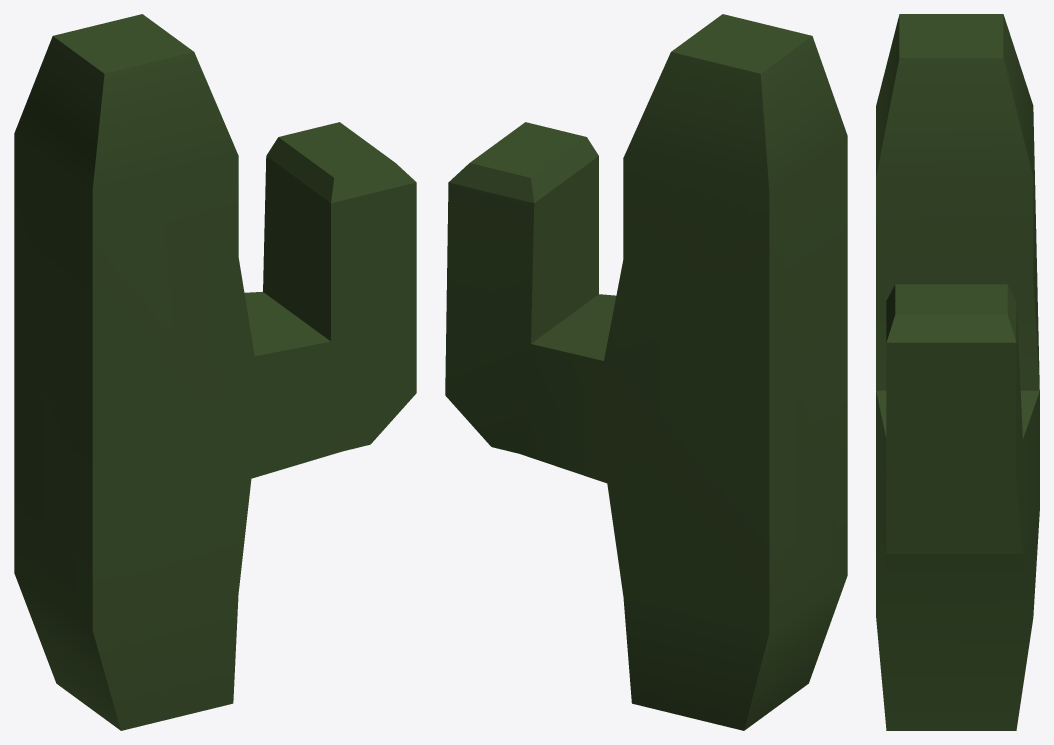
File: Cactes_1.fbx
The picture shows the model from 3 angles, left to right: view 1: azimuth 30°, elevation 25°; view 2: azimuth 150°, elevation 25°; view 3: azimuth 270°, elevation 25°; orthographic projection.
Parts seen in each view (by area): view 1: pCube1; view 2: pCube1; view 3: pCube1.
Part boxes in pixels (<box>): pCube1: <box>14,14,416,730</box>; pCube1: <box>445,14,847,730</box>; pCube1: <box>876,14,1039,730</box>.
Bounding box in the file's own units: 7.39 × 14.03 × 3.17.
